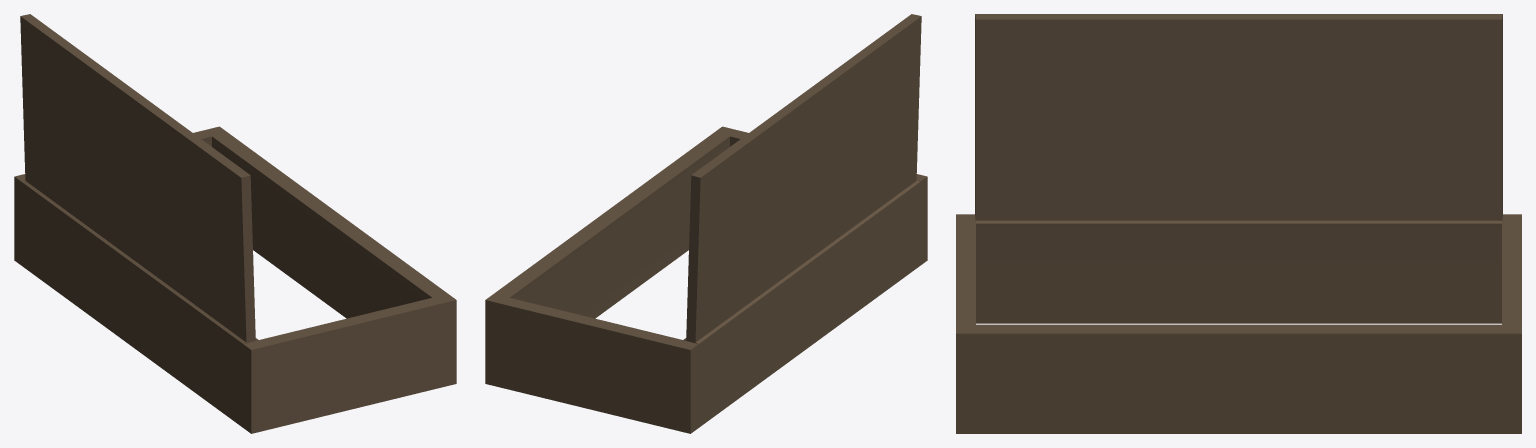
Rendered from trapDoor.fbx.
3 views of the same model, side by side, from view 1: azimuth 30°, elevation 25°; view 2: azimuth 150°, elevation 25°; view 3: azimuth 270°, elevation 25° (orthographic). The views are drawn at different scales.
Parts seen in each view (by area): view 1: trapDoor; view 2: trapDoor; view 3: trapDoor.
Boxes of the visible parts, x1=… form: trapDoor: x1=14, y1=14, x2=456, y2=433; trapDoor: x1=485, y1=14, x2=927, y2=433; trapDoor: x1=956, y1=14, x2=1521, y2=433.
Size of the model in its own units: 2.02 by 2.33 by 4.
